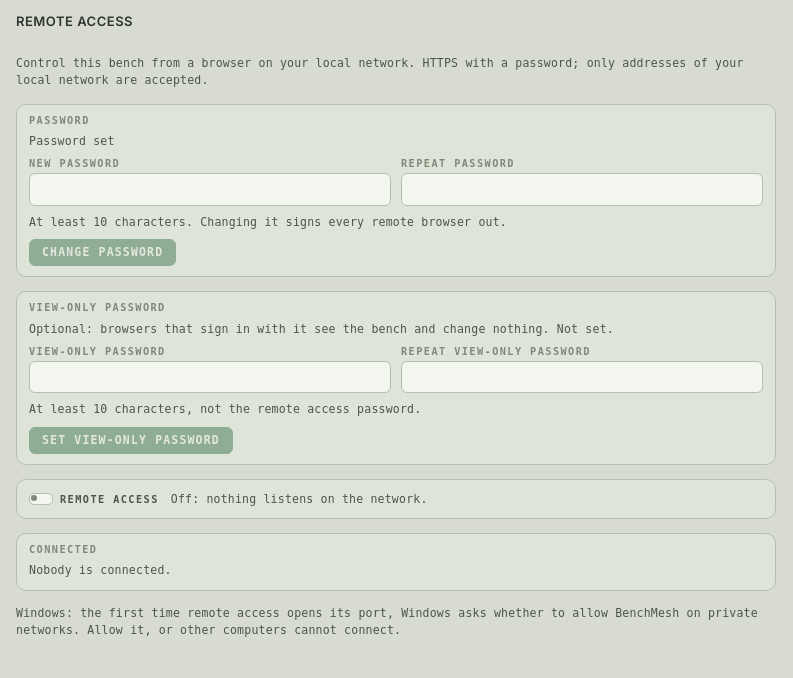
Test case: Remote access settings › shows the 409 of switching on without a password as a reason
Click the switch labelled "Remote access". click: [94, 499]
box: top-left (29, 490), bottom-right (159, 508)
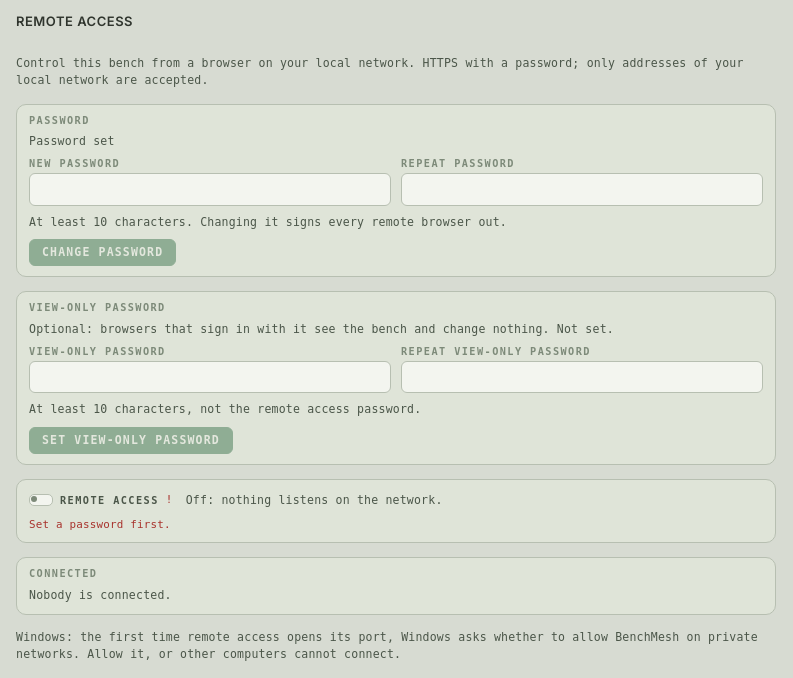
Result: the text "Set a password first." is shown at top-left (29, 518), bottom-right (171, 531)
